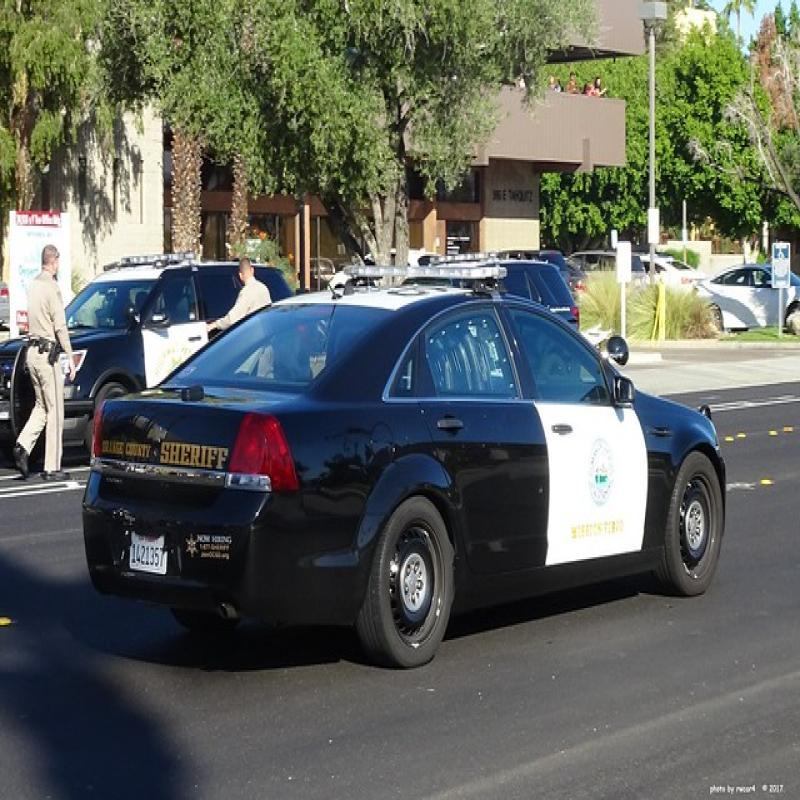car: (58, 259, 730, 690)
